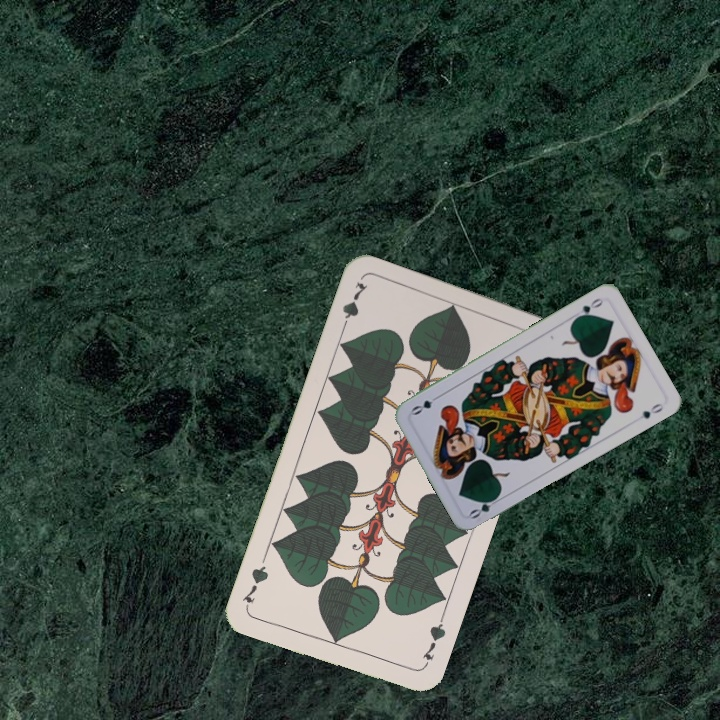G7: (337, 277, 371, 335), (418, 613, 448, 670)
GO: (465, 491, 504, 522), (568, 294, 606, 323)
